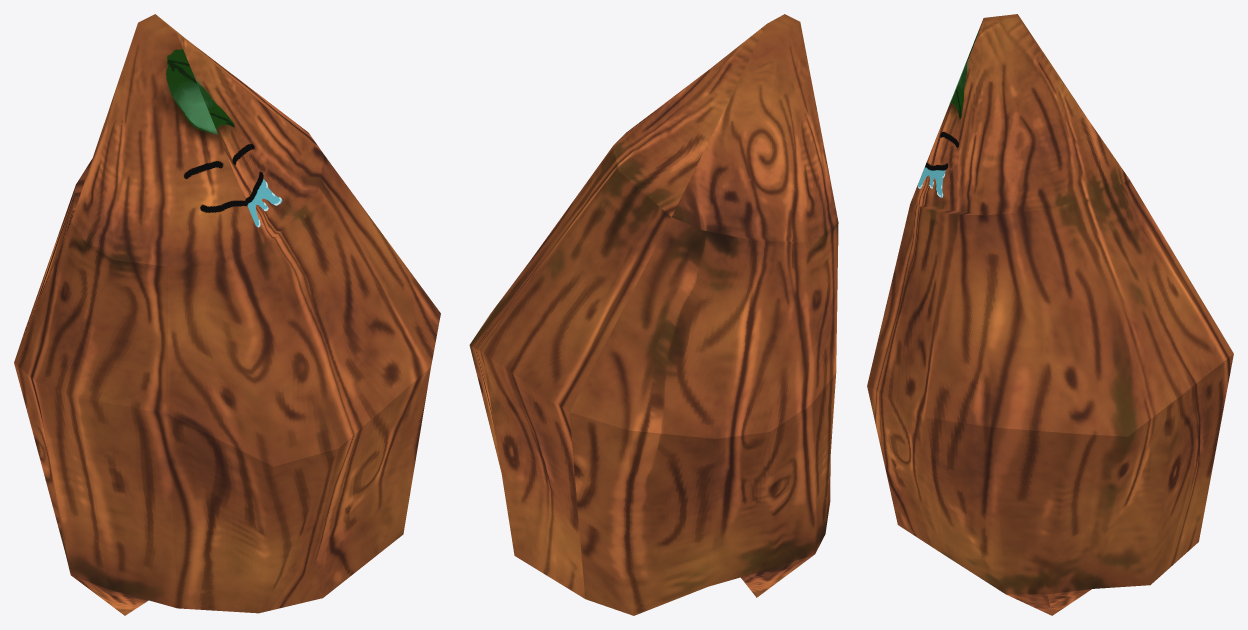
File: Golem_2.glb
3 views of the same model, side by side, from view 1: azimuth 30°, elevation 25°; view 2: azimuth 150°, elevation 25°; view 3: azimuth 270°, elevation 25° (orthographic). The views are drawn at different scales.
Visible parts, largest first — view 1: Golem_2 Model; view 2: Golem_2 Model; view 3: Golem_2 Model.
Boxes of the visible parts, <box> form: Golem_2 Model: <box>14,14,440,615</box>; Golem_2 Model: <box>469,14,838,615</box>; Golem_2 Model: <box>867,14,1233,615</box>.
Size of the model in its own units: 84.77 by 140 by 89.82.
1 material, 1 textured.
